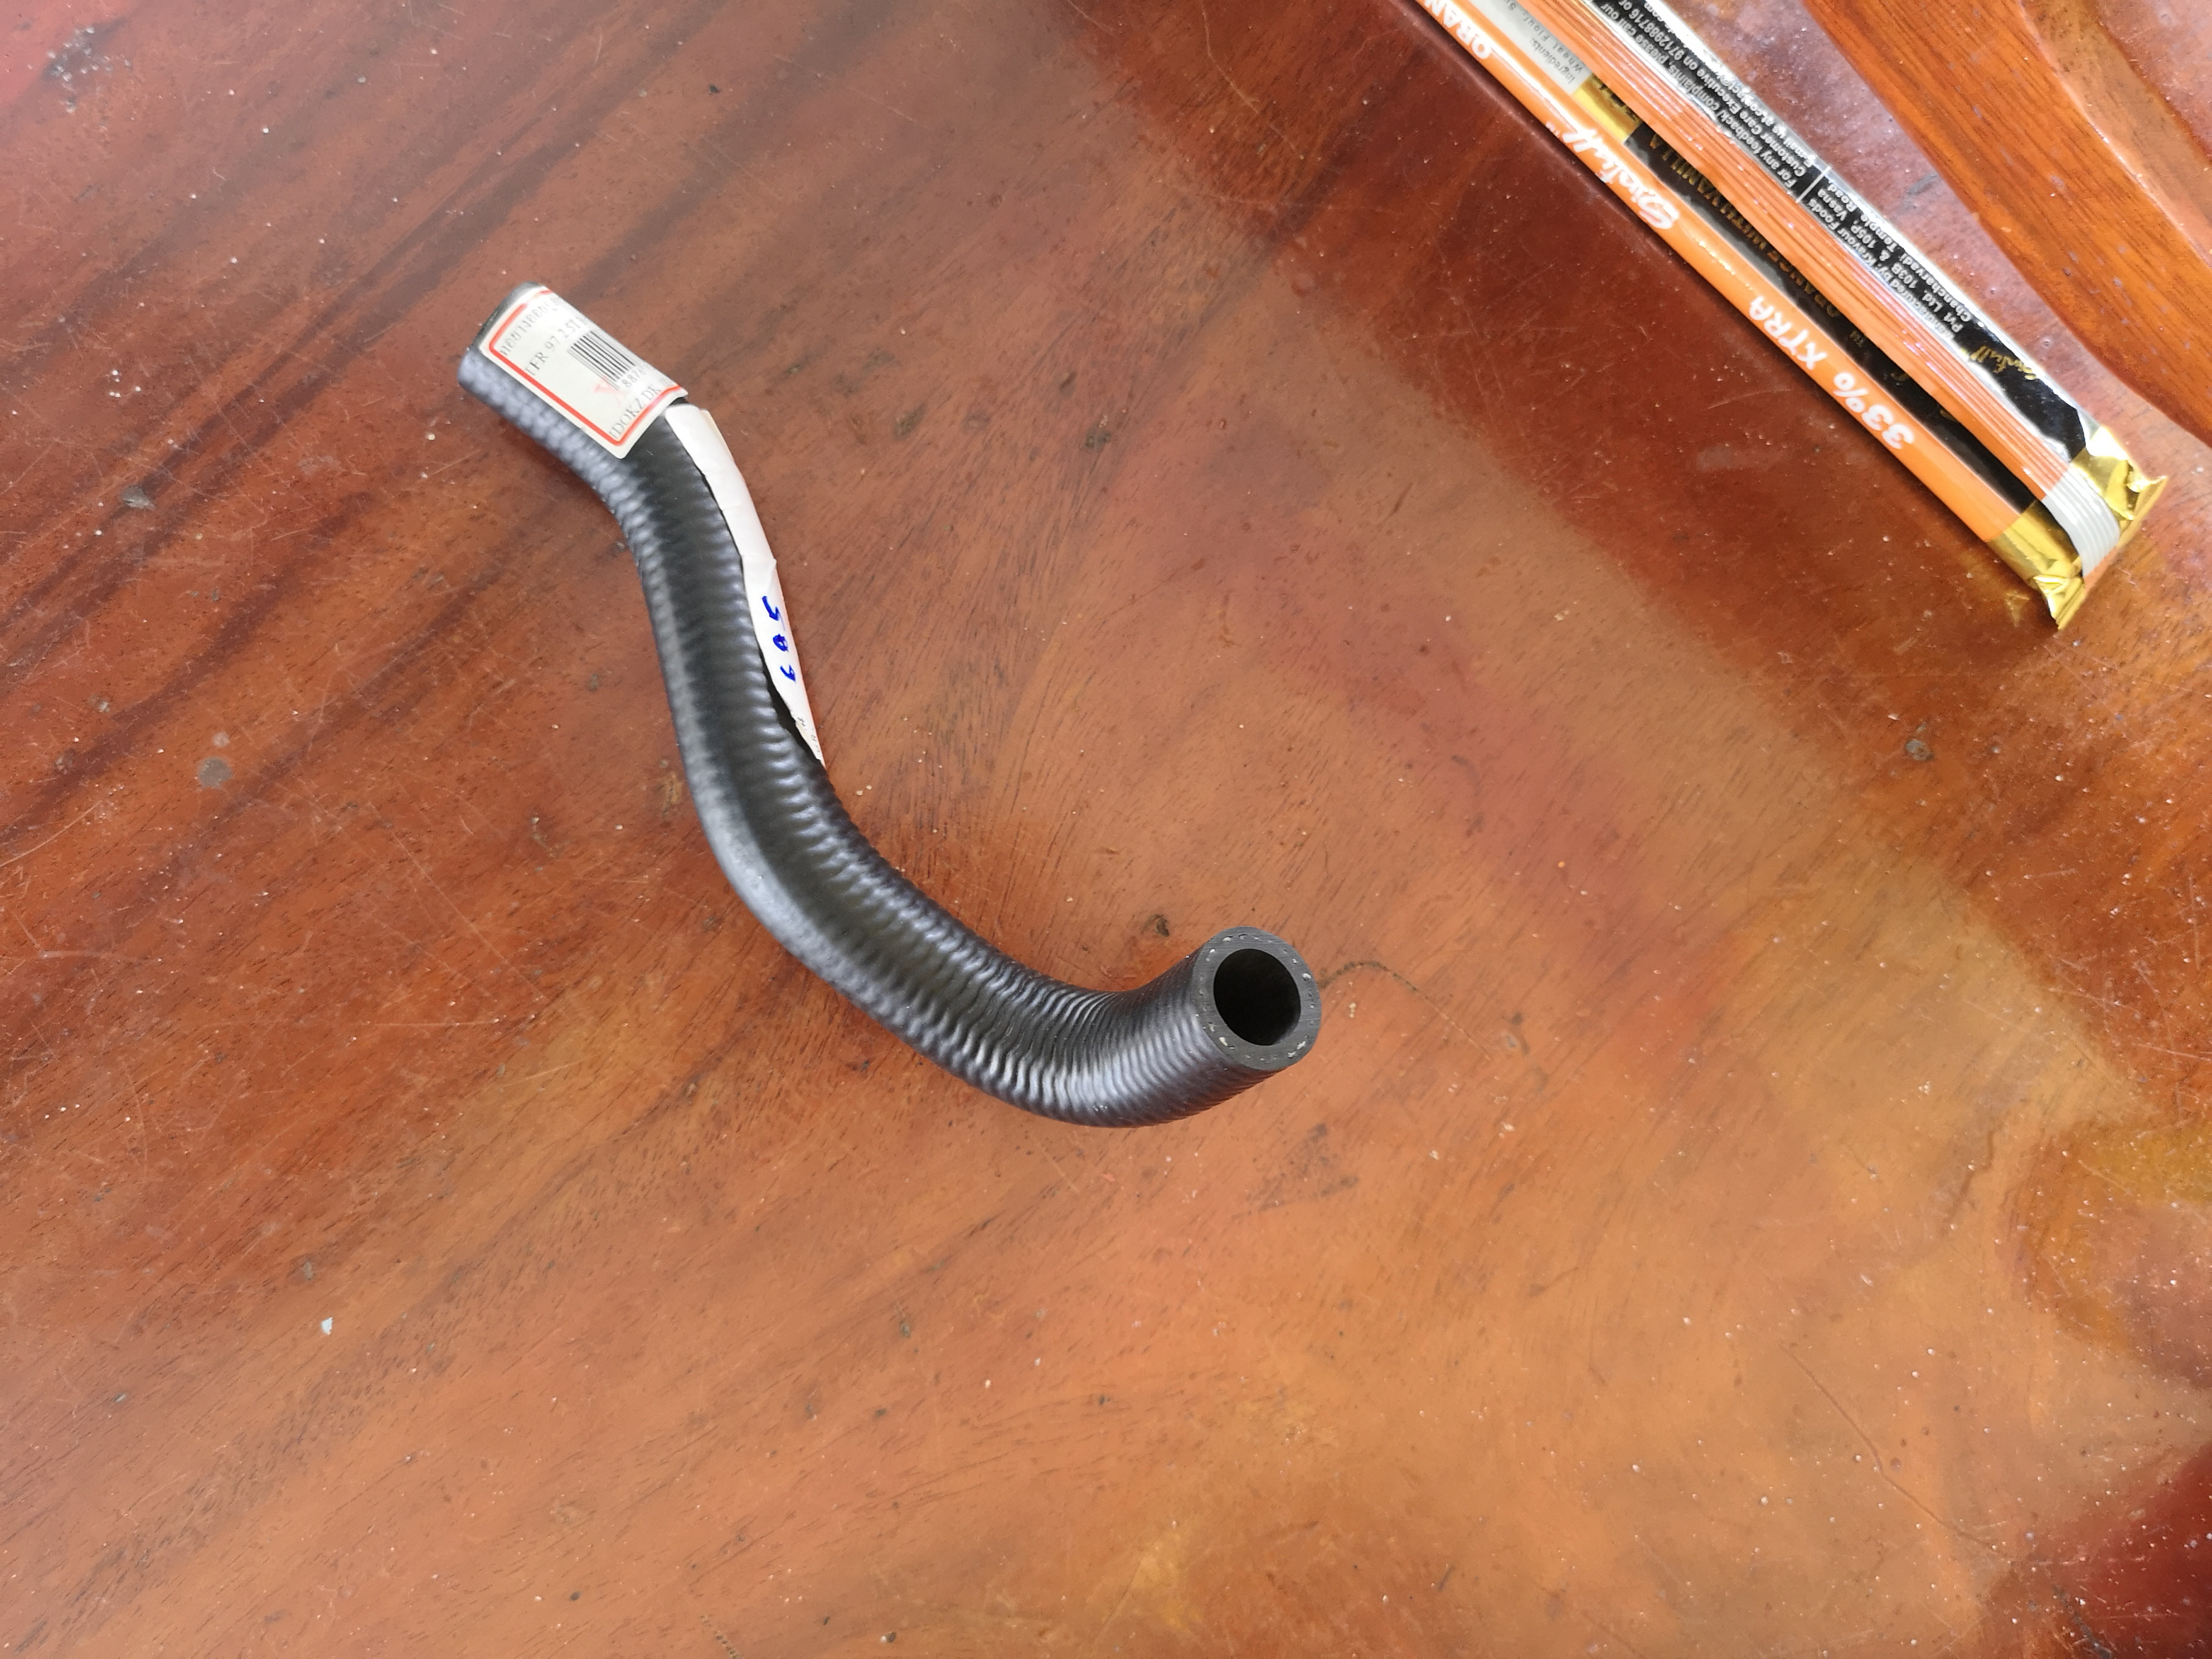ท่อยางน้ำมันเลี้ยงเทอร์โบ: (435, 263, 1346, 1145)
